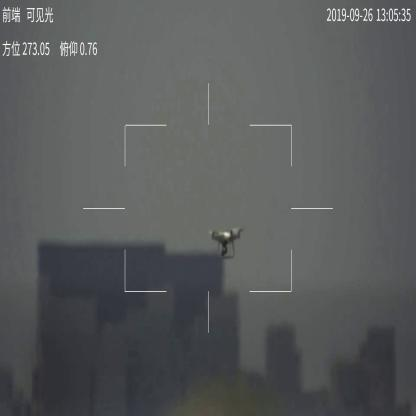uav: (206, 226, 248, 260)
